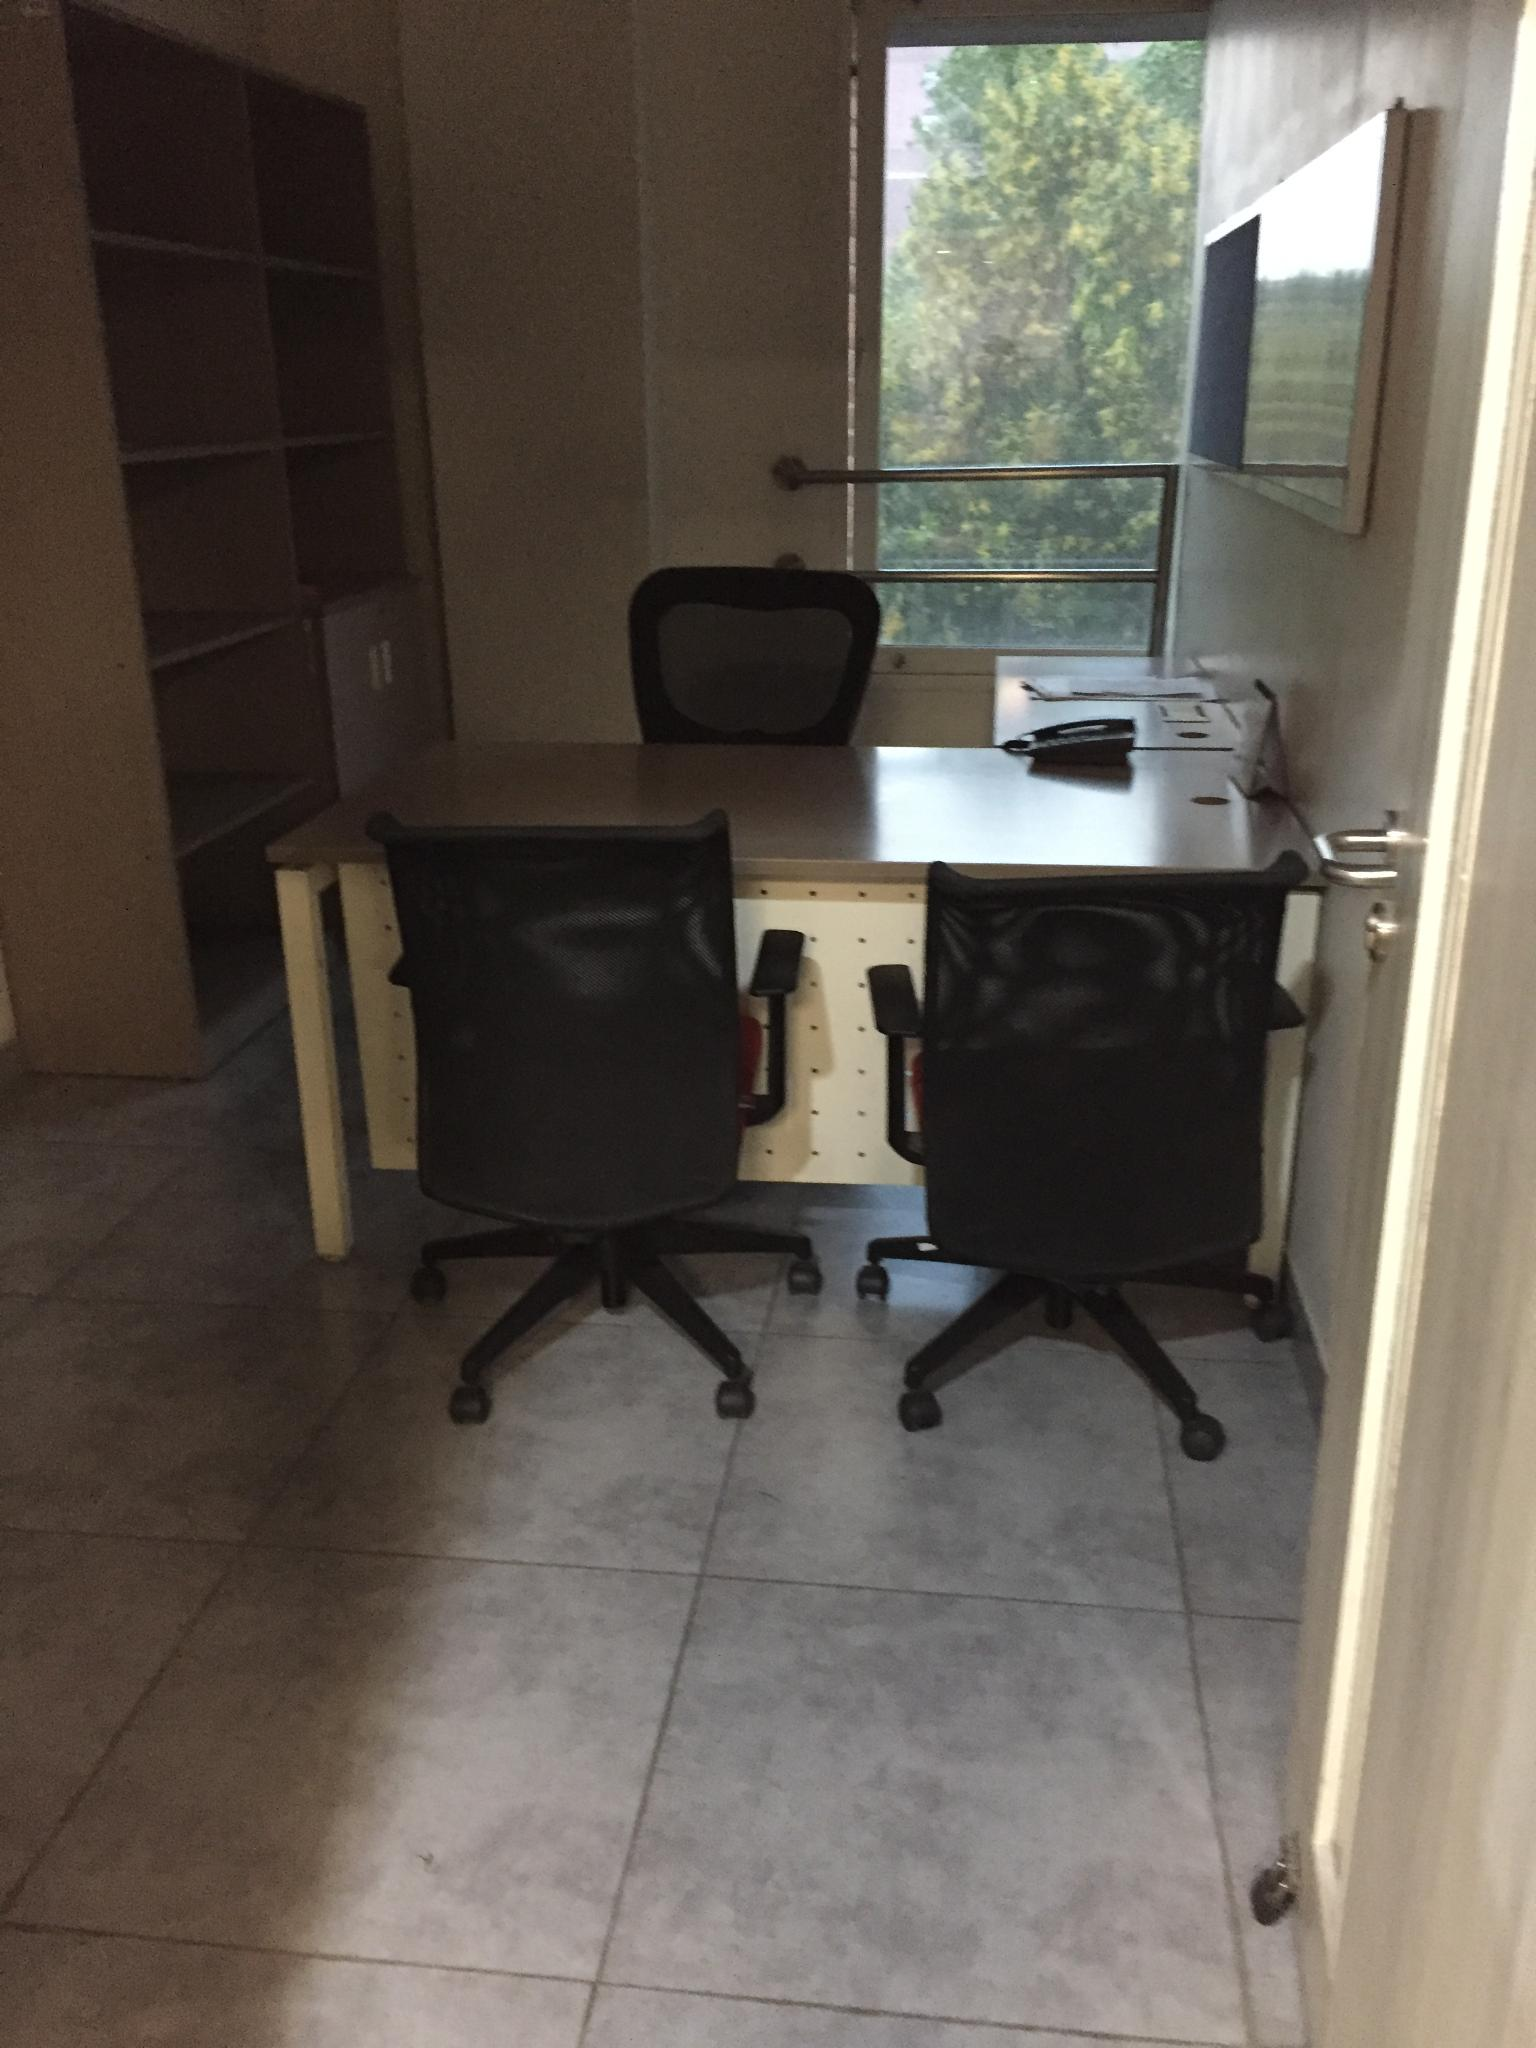chair: (363, 803, 821, 1426), (855, 848, 1309, 1463), (626, 563, 881, 745)
